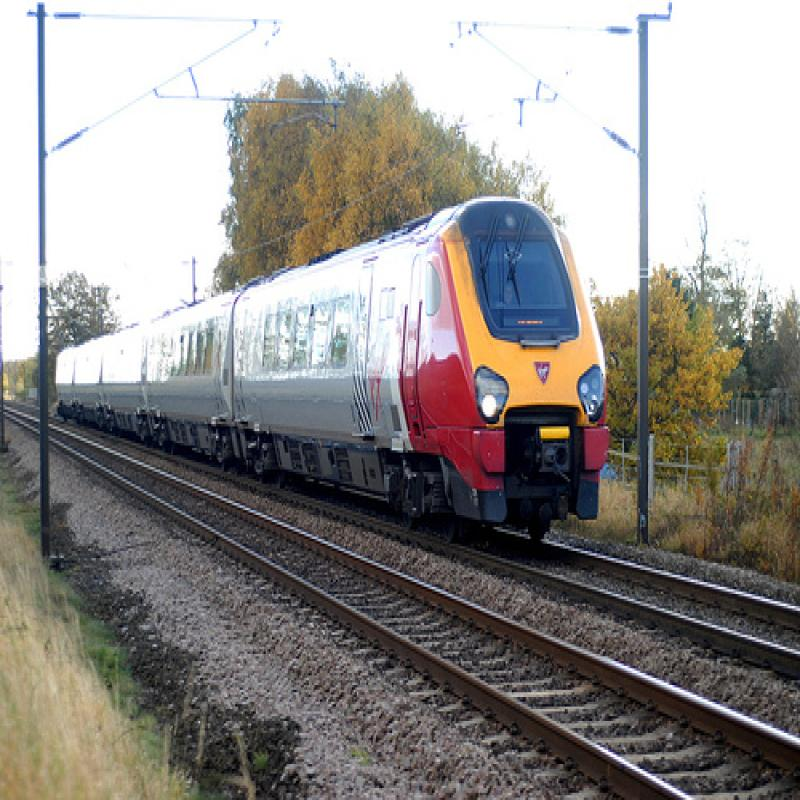train: (54, 198, 612, 555)
